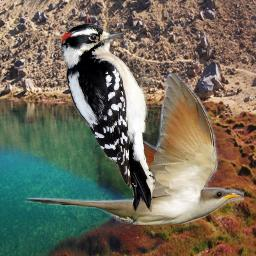Cuckoo: (25, 73, 244, 225)
Woodpecker: (61, 23, 156, 212)
